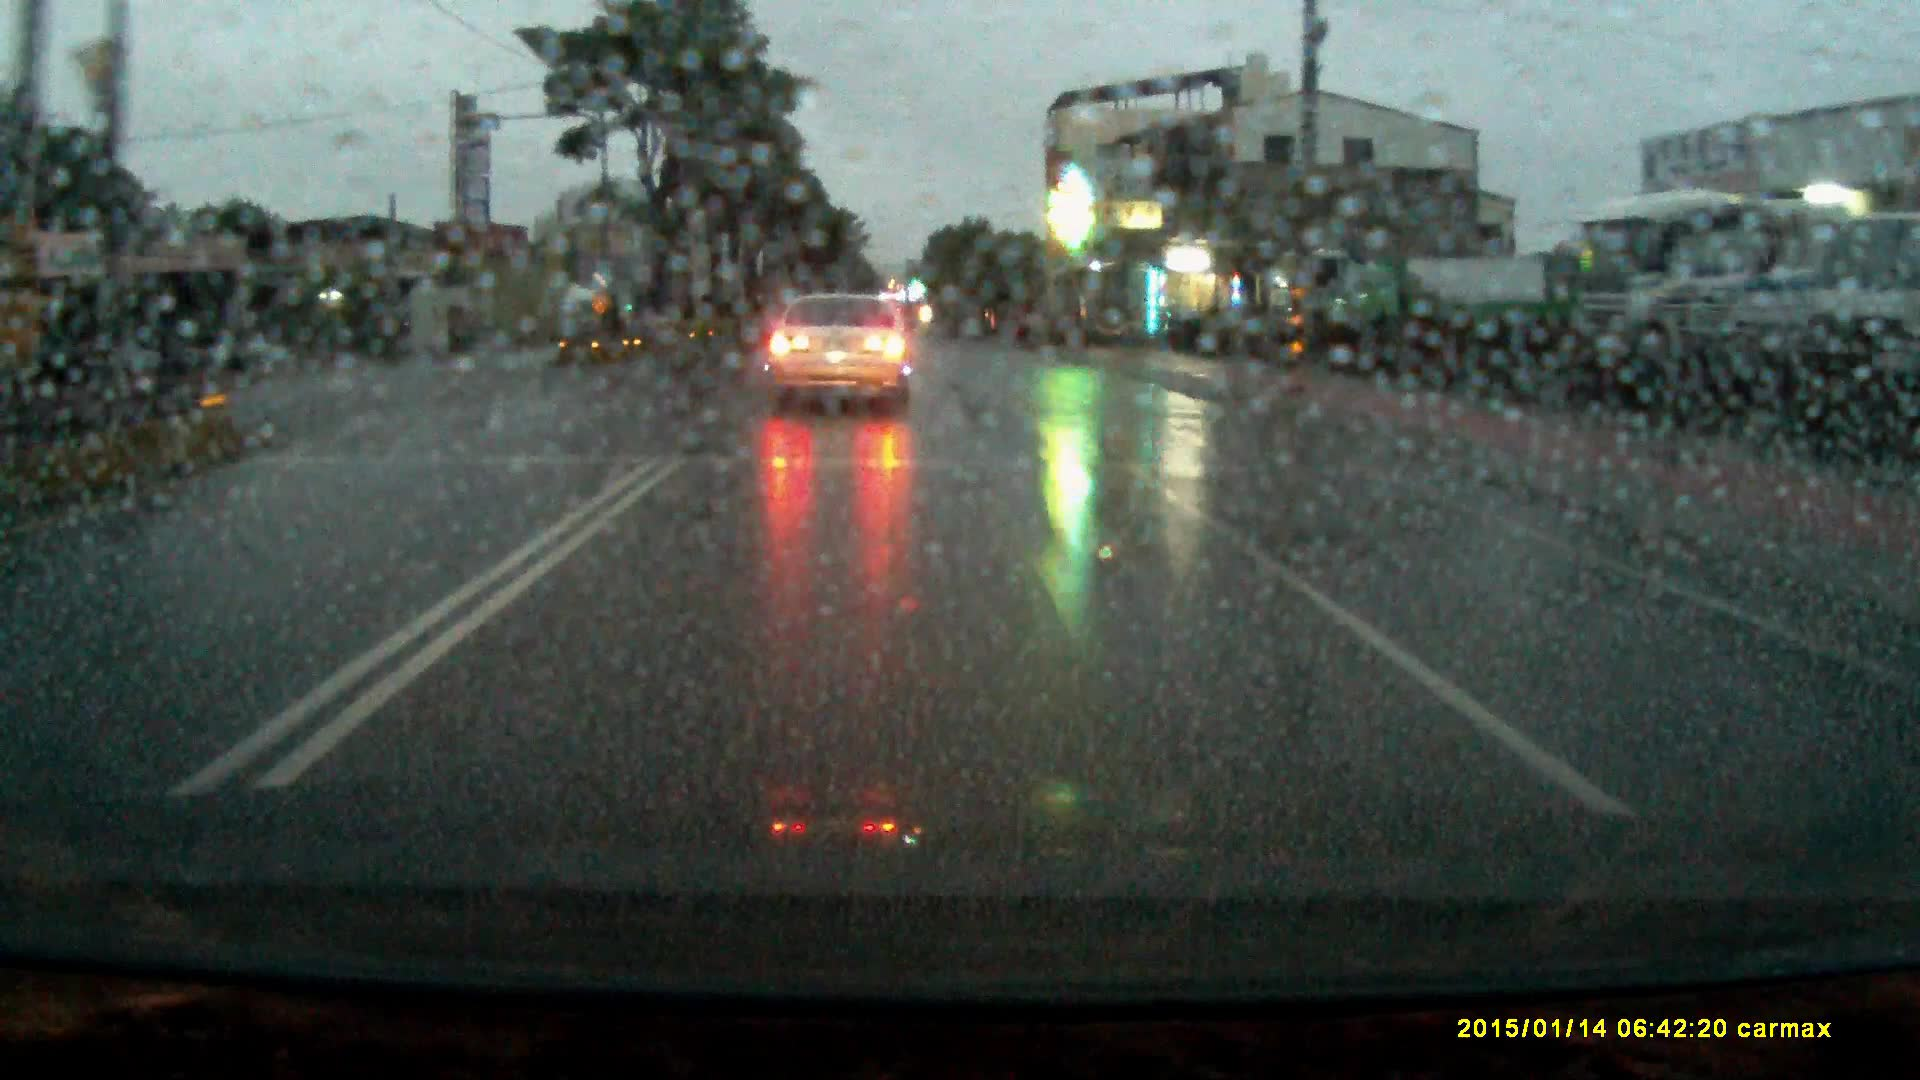vehicle: (1576, 181, 1767, 406), (1756, 208, 1920, 434), (770, 291, 920, 415), (1342, 251, 1540, 344), (1273, 240, 1365, 343), (560, 277, 618, 335)
